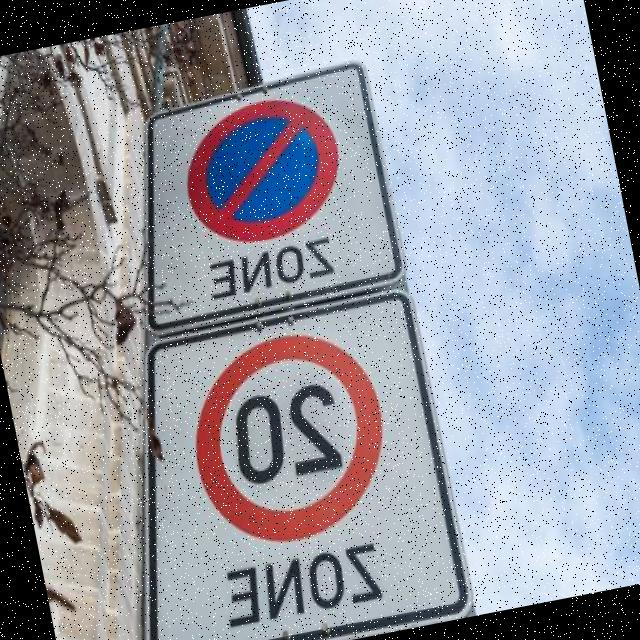speed_limit_20: (165, 317, 406, 559)
